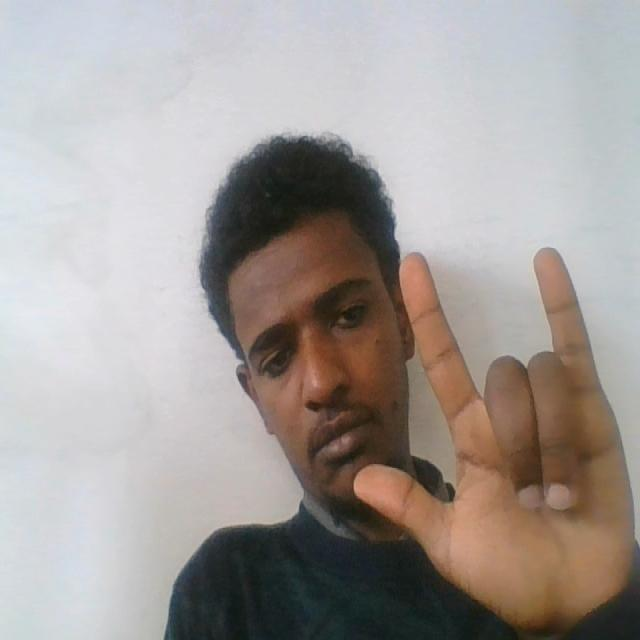iloveyou: (344, 241, 640, 620)
